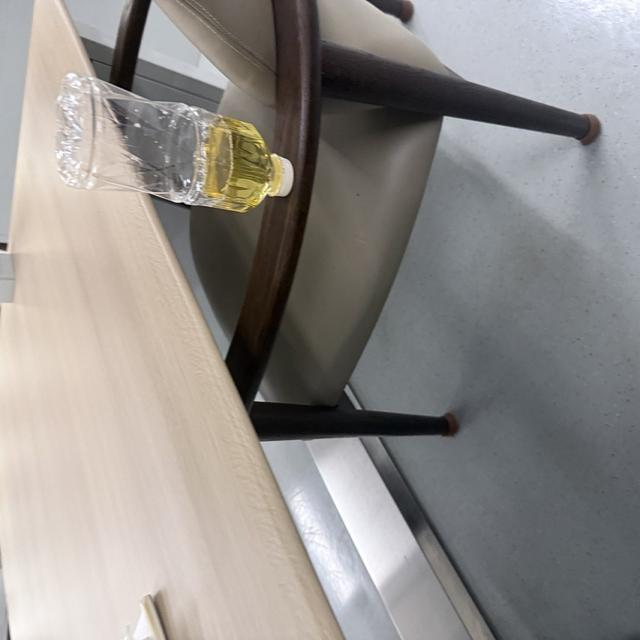low: (57, 73, 293, 212)
